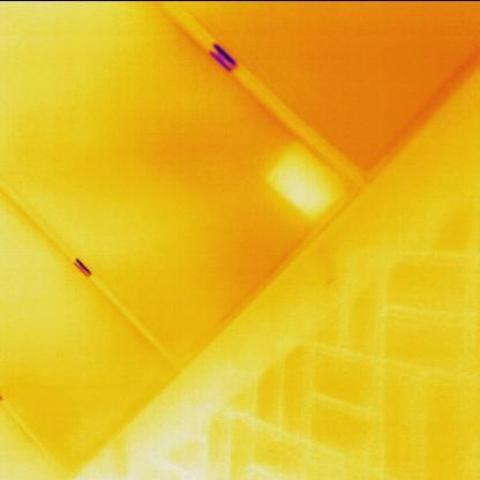fault: (273, 147, 339, 216)
